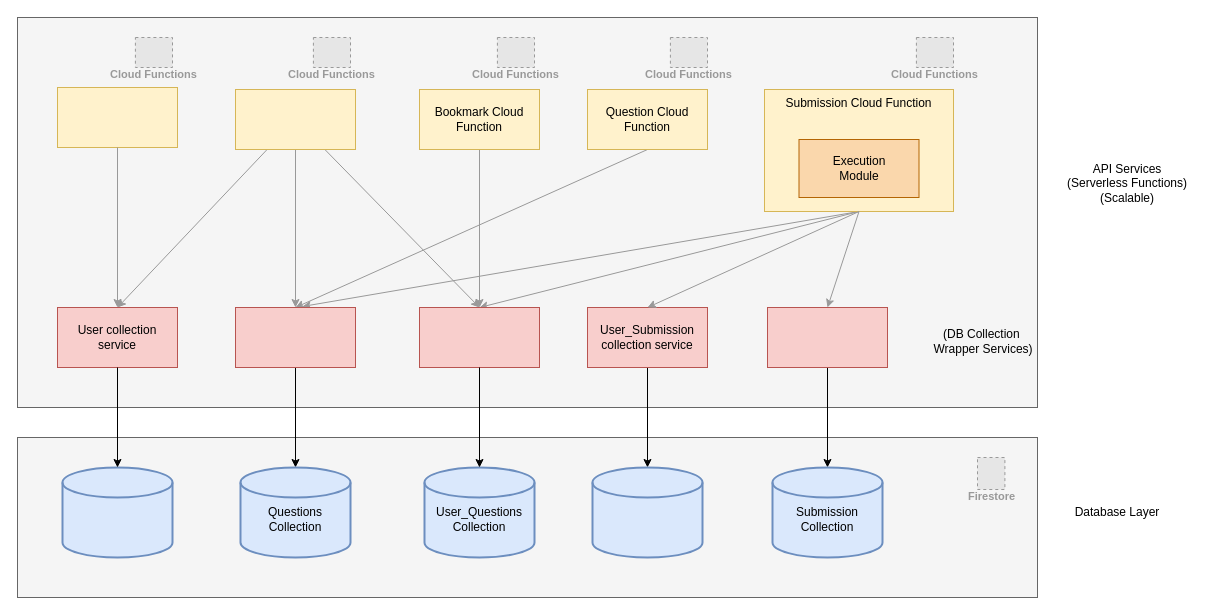
This 1205x615 diagram has some shape labels left out. Grey dashed boxes stand in for pictures. The shapes that lost their labels are listed below. From the top down, each one's centre as x and y in pixels, then its label:
At [117,117]: "User Cloud Function".
At [295,119]: "Application Cloud Function".
At [295,337]: "Question collection service".
At [479,337]: "User_Question collection service".
At [827,337]: "Submission collection service".
At [117,512]: "User Collection".
At [647,512]: "User_Submissions Collection".
